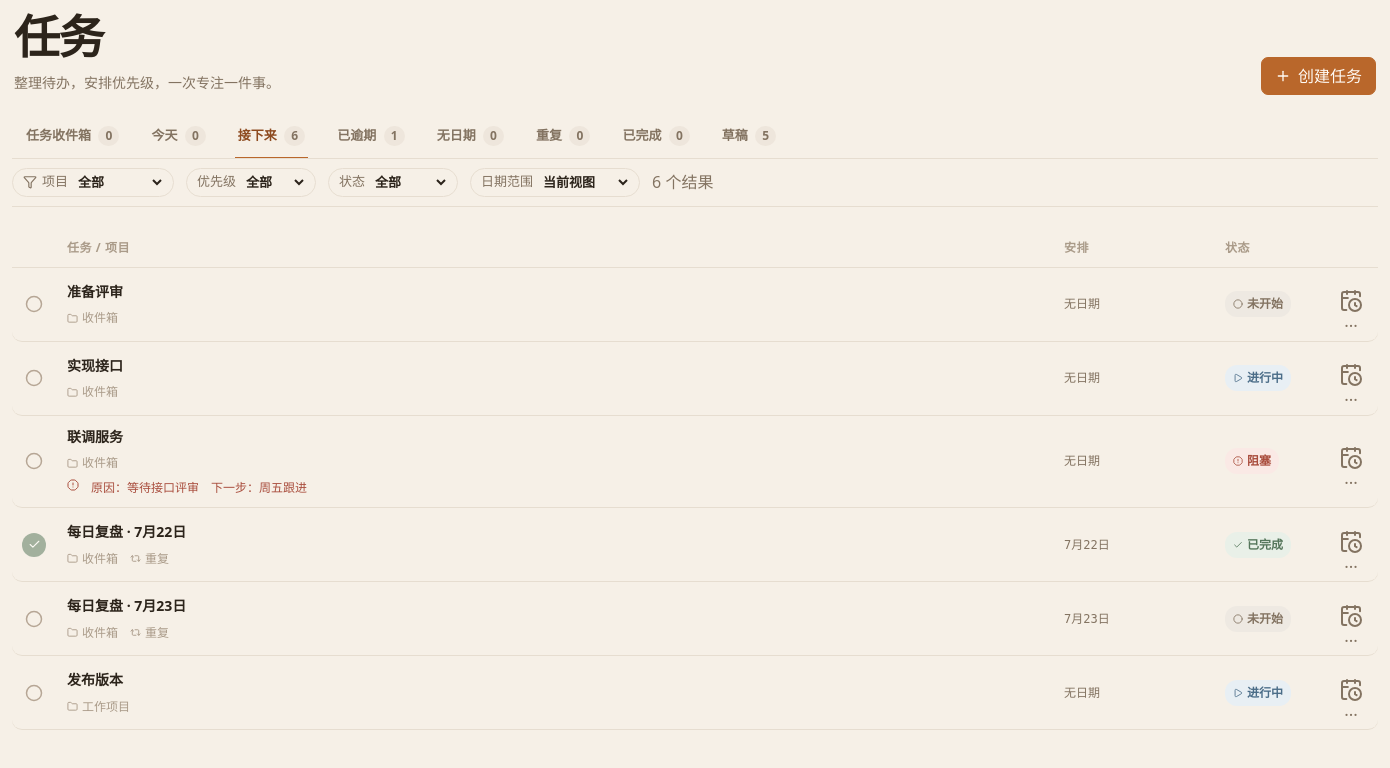
Test: Task occurrence workspace › filters visible occurrences by project, priority, and status
This screenshot has width=1390, height=768.
Select "工作项目" in the dropdown named "按项目筛选" at [119, 182], box left=73, top=170, right=165, bottom=194
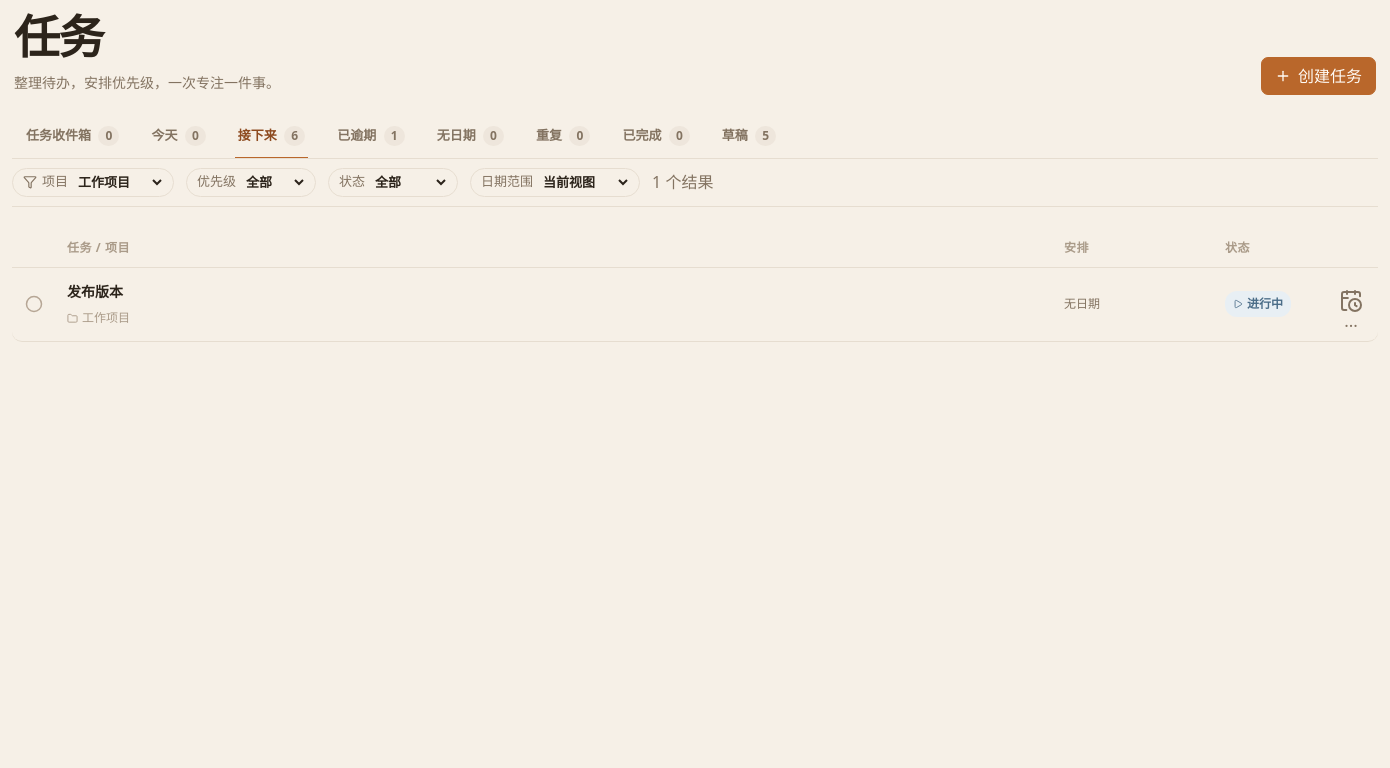
Expected: the text "发布版本" is shown, left=67, top=282, right=123, bottom=301
Expected: the text "准备评审" is gone
Expected: the text "1 个结果" is shown, left=652, top=170, right=713, bottom=194
Select "全部" in the dropdown named "按项目筛选" at [119, 182], box left=73, top=170, right=165, bottom=194
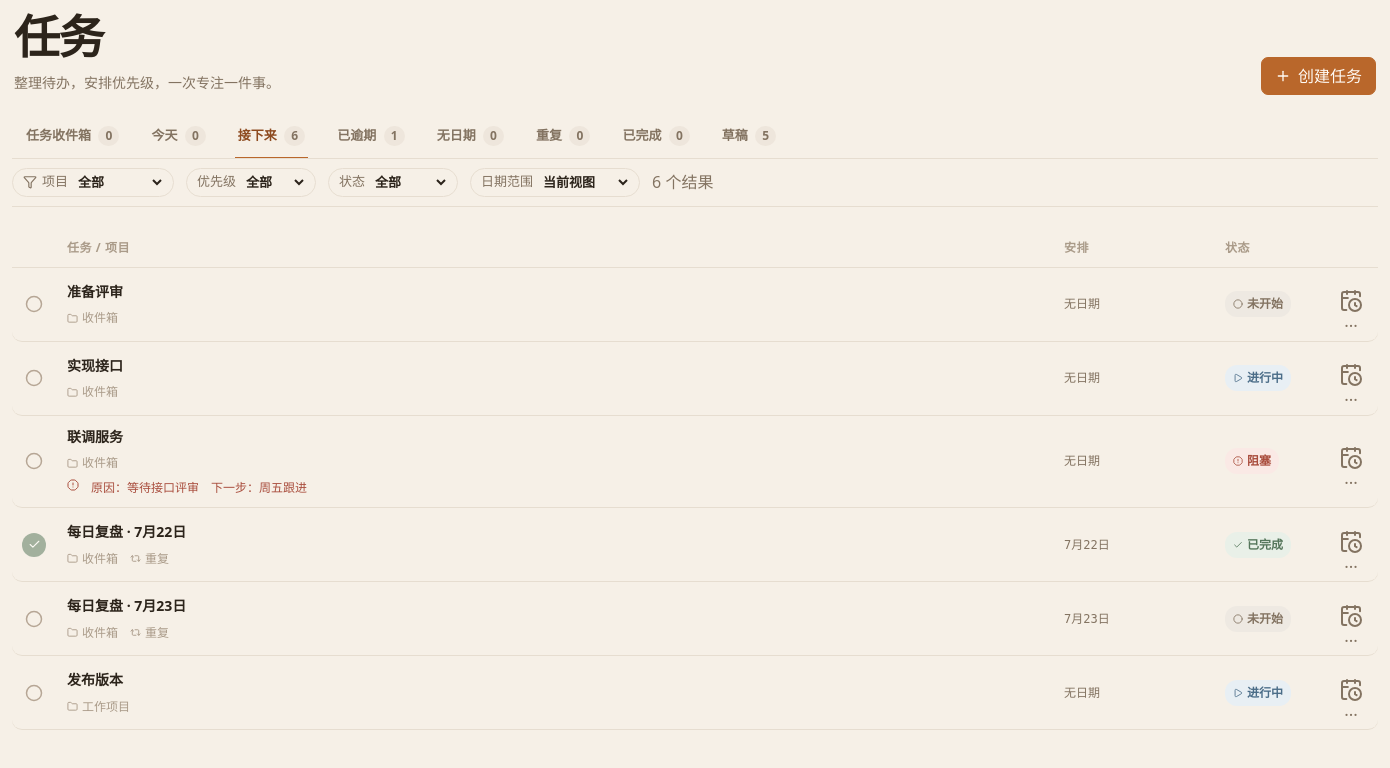
Select "高" in the dropdown named "按优先级筛选" at [274, 182], box left=241, top=170, right=307, bottom=194
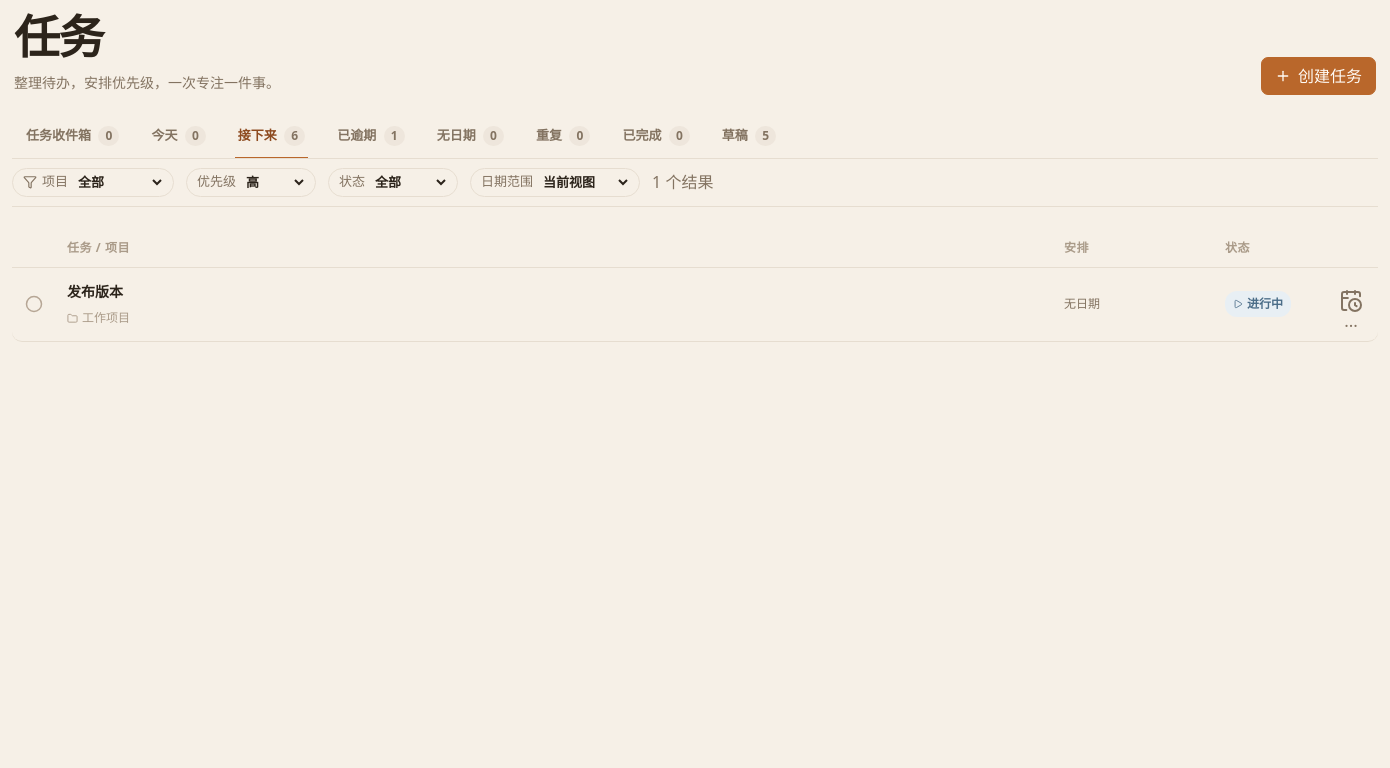
Expected: the text "发布版本" is shown, left=67, top=282, right=123, bottom=301
Expected: the text "实现接口" is gone
Select "全部" in the dropdown named "按优先级筛选" at [274, 182], box left=241, top=170, right=307, bottom=194
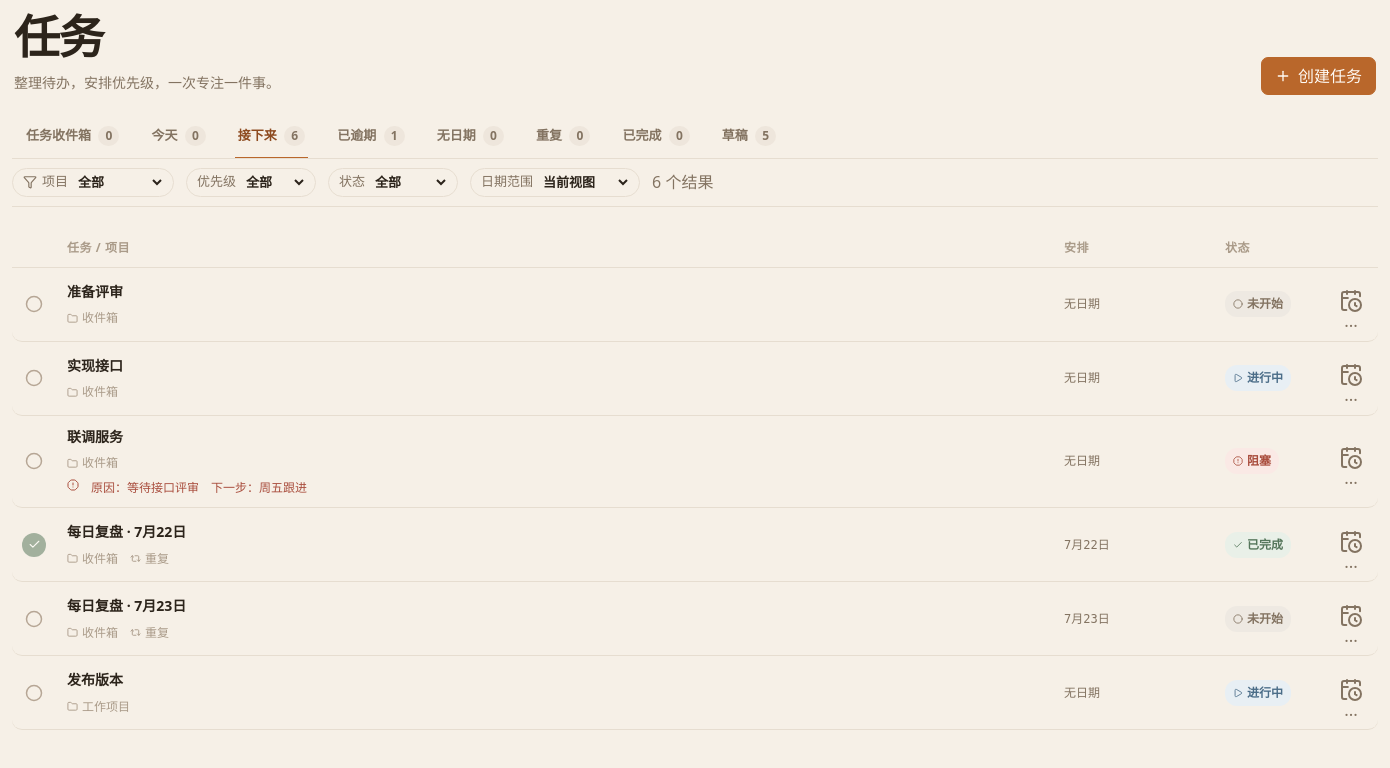
Select "阻塞" in the dropdown named "按状态筛选" at [410, 182], box left=370, top=170, right=449, bottom=194
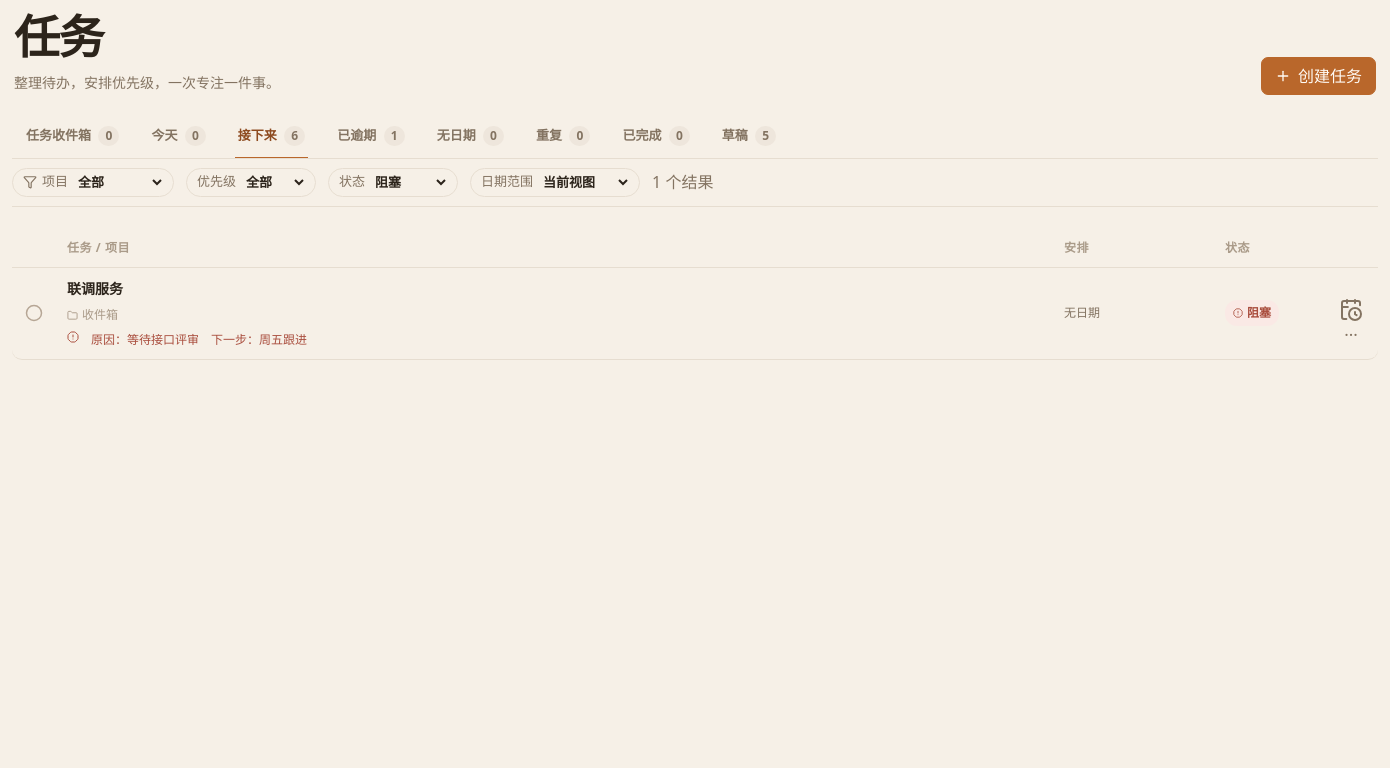
Expected: the text "联调服务" is shown, left=67, top=279, right=123, bottom=298
Expected: the text "发布版本" is gone
Expected: the text "1 个结果" is shown, left=652, top=170, right=713, bottom=194
